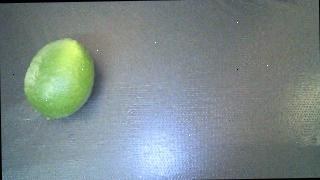EXPORTACION: (23, 38, 95, 120)
